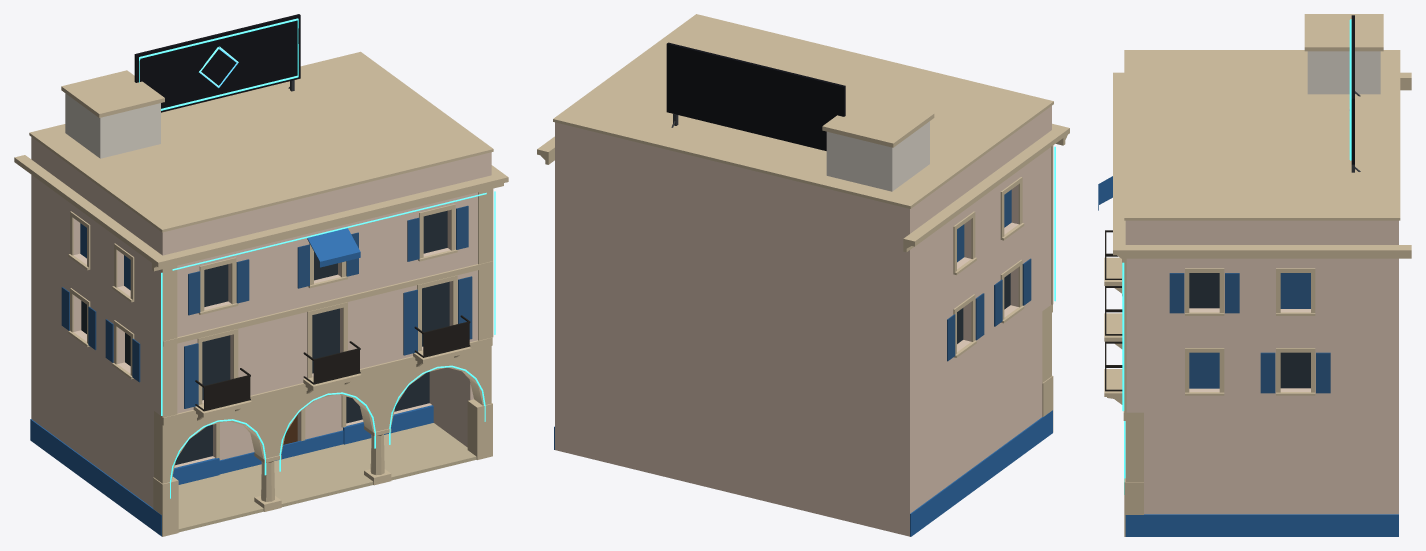
3 renders of one model, left to right at view 1: azimuth 30°, elevation 25°; view 2: azimuth 150°, elevation 25°; view 3: azimuth 270°, elevation 25°, orthographic. The views are drawn at different scales.
Parts seen in each view (by area): view 1: house_se.lod1; view 2: house_se.lod1; view 3: house_se.lod1.
Boxes of the visible parts, x1,y1,x2,y2 form: house_se.lod1: (14, 14, 508, 536); house_se.lod1: (537, 14, 1069, 536); house_se.lod1: (1098, 14, 1411, 536).
Bounding box in the file's own units: 13.84 × 14.4 × 10.32.
